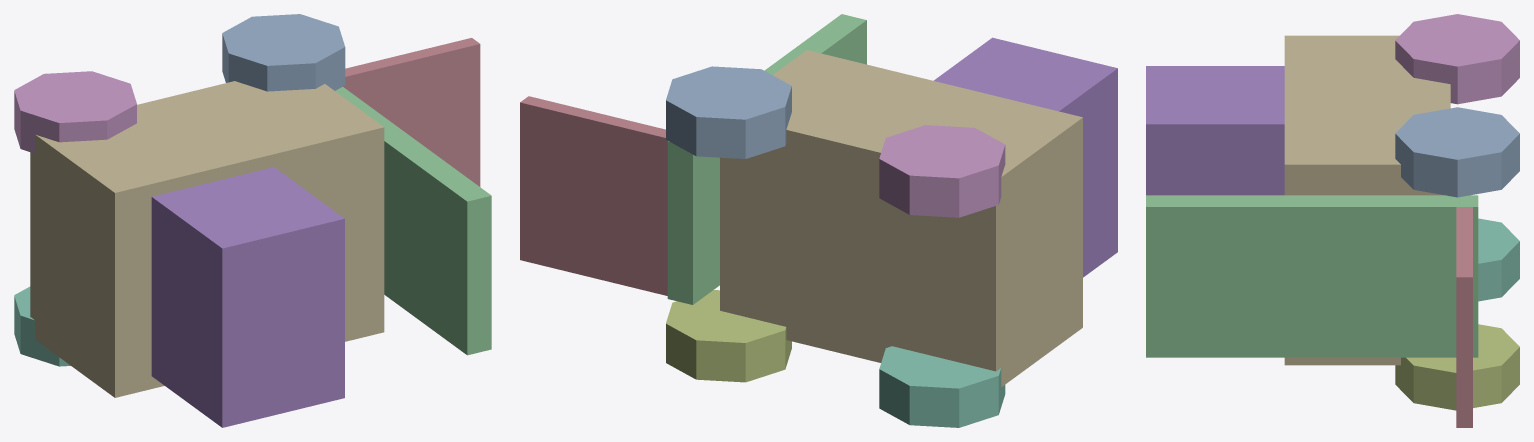
3 views of the same model, side by side, from view 1: azimuth 30°, elevation 25°; view 2: azimuth 150°, elevation 25°; view 3: azimuth 270°, elevation 25° (orthographic). The views are drawn at different scales.
Parts seen in each view (by area): view 1: part0, part1, part2, part3, part4, part6, part7; view 2: part0, part3, part1, part2, part6, part4, part5, part7; view 3: part2, part0, part1, part4, part6, part5, part3, part7.
Part boxes in pixels (left/top/right/bottom): part0: left=30, top=81, right=384, bottom=397; part1: left=151, top=167, right=344, bottom=427; part2: left=335, top=87, right=491, bottom=355; part3: left=343, top=38, right=480, bottom=186; part4: left=222, top=14, right=345, bottom=91; part6: left=14, top=71, right=136, bottom=153; part7: left=14, top=286, right=70, bottom=366; part0: left=720, top=50, right=1082, bottom=386; part3: left=520, top=96, right=667, bottom=295; part1: left=933, top=37, right=1117, bottom=277; part2: left=667, top=14, right=866, bottom=304; part6: left=879, top=125, right=1005, bottom=217; part4: left=666, top=66, right=791, bottom=158; part5: left=666, top=290, right=791, bottom=382; part7: left=879, top=346, right=1005, bottom=427; part2: left=1146, top=195, right=1478, bottom=357; part0: left=1284, top=35, right=1450, bottom=365; part1: left=1146, top=66, right=1284, bottom=195; part4: left=1395, top=107, right=1519, bottom=197; part6: left=1395, top=14, right=1519, bottom=104; part5: left=1395, top=324, right=1519, bottom=410; part3: left=1456, top=207, right=1472, bottom=427; part7: left=1478, top=218, right=1519, bottom=301.
Bounding box in the file's own units: 3.75 × 2 × 2.7.
